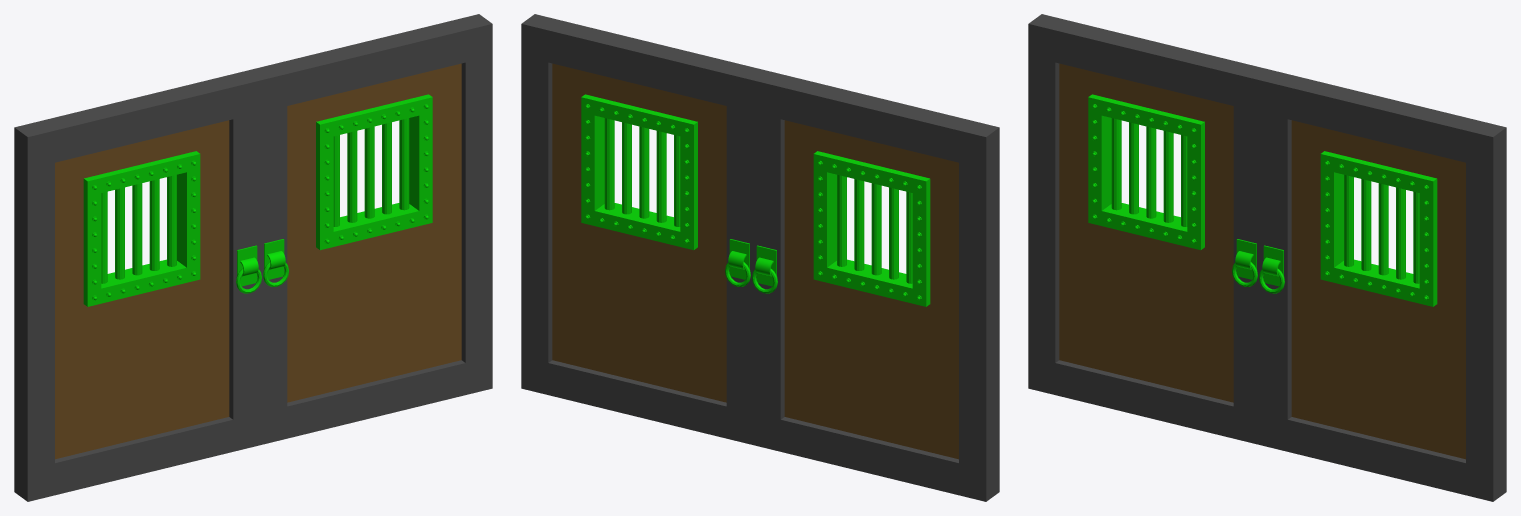
File: dvereBludiste.fbx
3 renders of one model, left to right at view 1: azimuth 30°, elevation 25°; view 2: azimuth 150°, elevation 25°; view 3: azimuth 330°, elevation 25°, orthographic.
Parts seen in each view (by area): view 1: Cube.001, Cube; view 2: Cube.001, Cube; view 3: Cube, Cube.001.
Part boxes in pixels (x1,y1,x2,y2): Cube.001: (14, 70, 261, 501); Cube: (247, 14, 492, 444); Cube.001: (752, 70, 999, 501); Cube: (521, 14, 766, 444); Cube: (1259, 70, 1506, 501); Cube.001: (1028, 14, 1273, 444).
Size of the model in its own units: 400 by 300 by 34.36.
